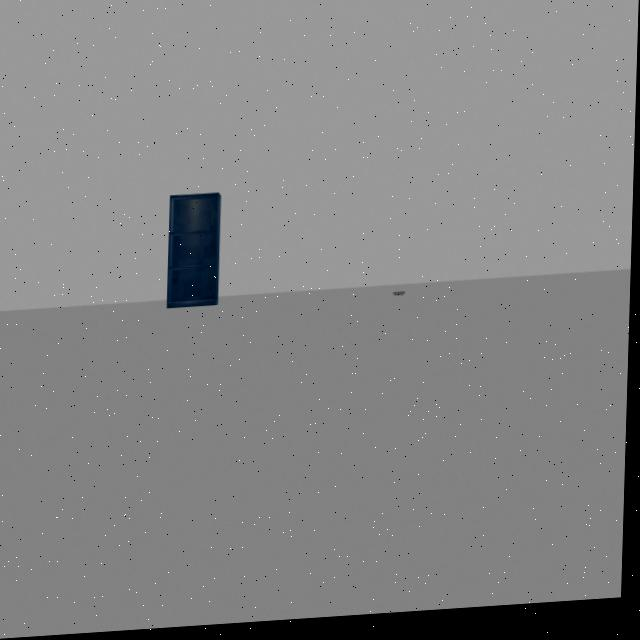bowl: (396, 292, 408, 305)
shelf: (159, 183, 238, 327)
